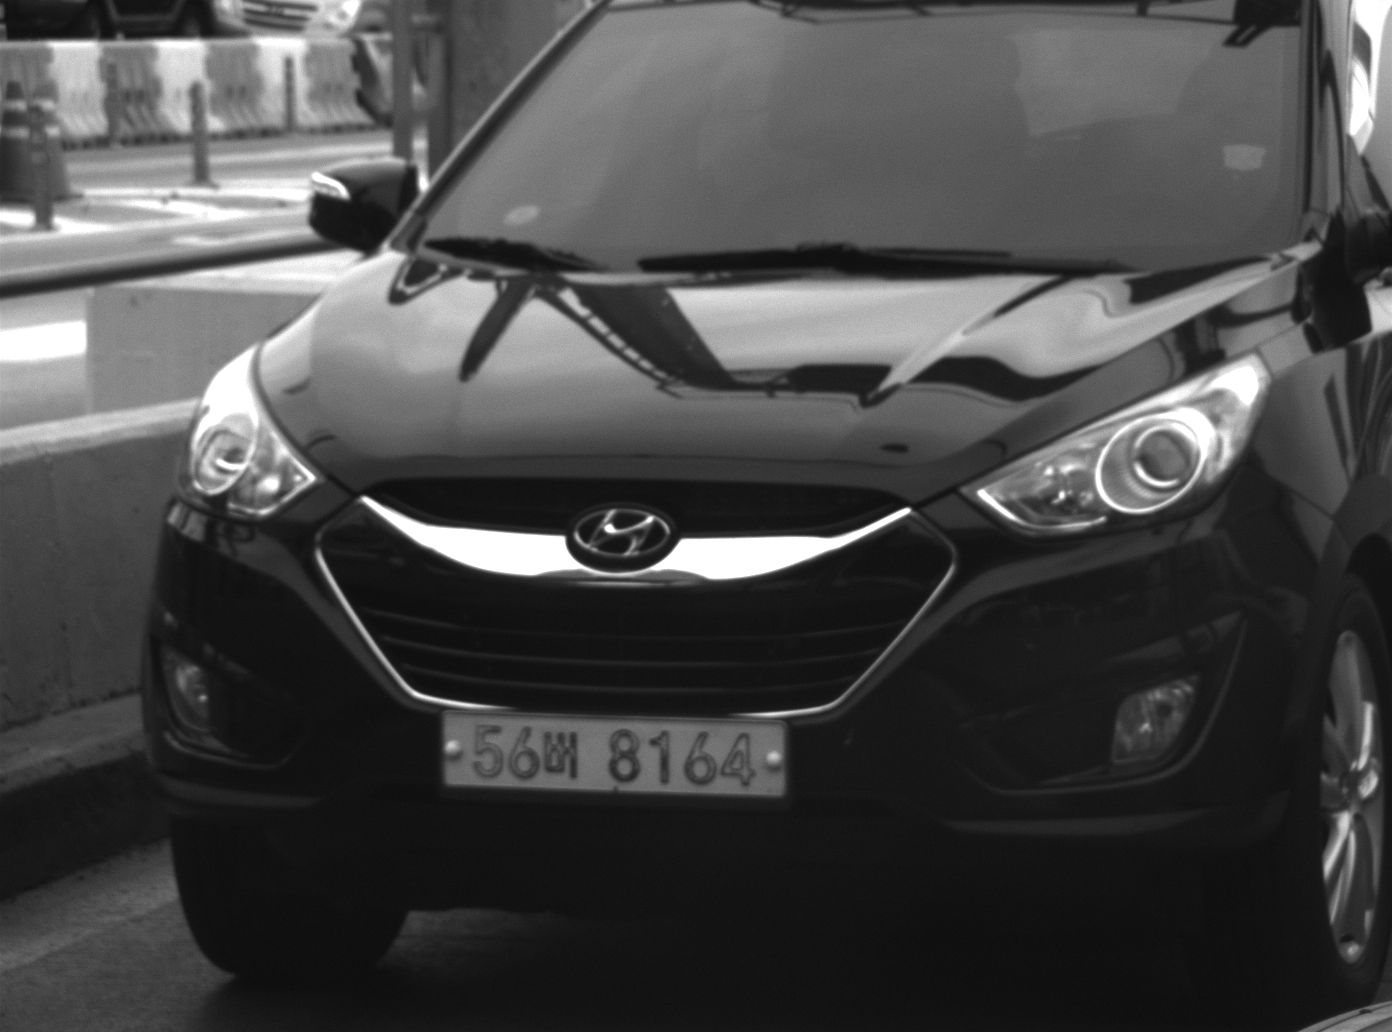car: (138, 3, 1392, 1010)
plate: (431, 706, 792, 798)
